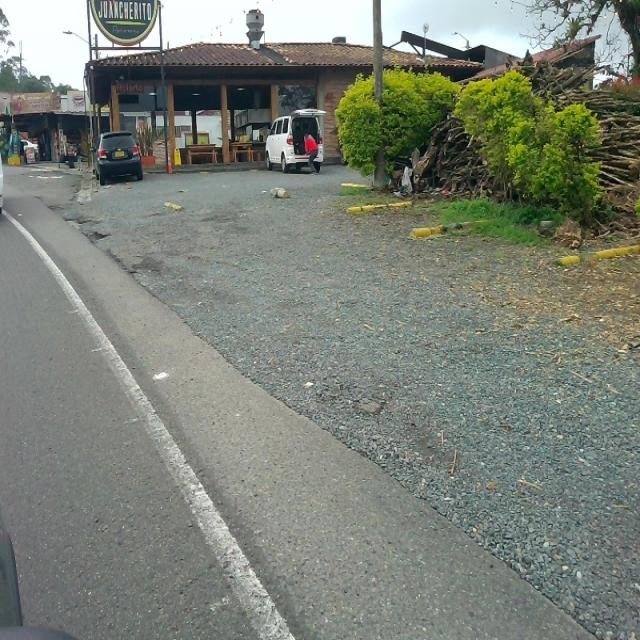DITCH: (44, 165, 638, 637)
